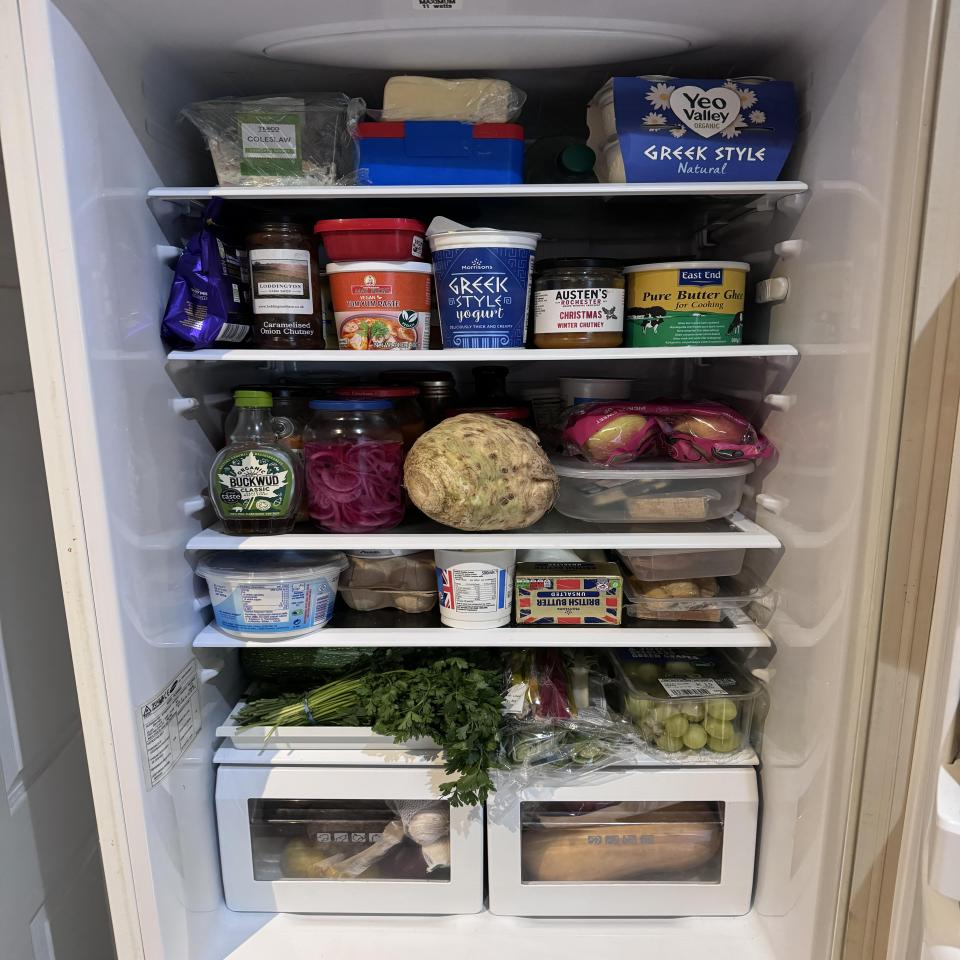Huevos: (338, 558, 440, 614)
Mantequilla: (516, 562, 623, 625)
Manzana: (670, 417, 744, 462), (586, 413, 652, 463)
Queso: (381, 76, 513, 124), (626, 496, 708, 519)
Yogur: (586, 76, 798, 185), (424, 216, 543, 350), (194, 550, 350, 638), (434, 548, 516, 630)
